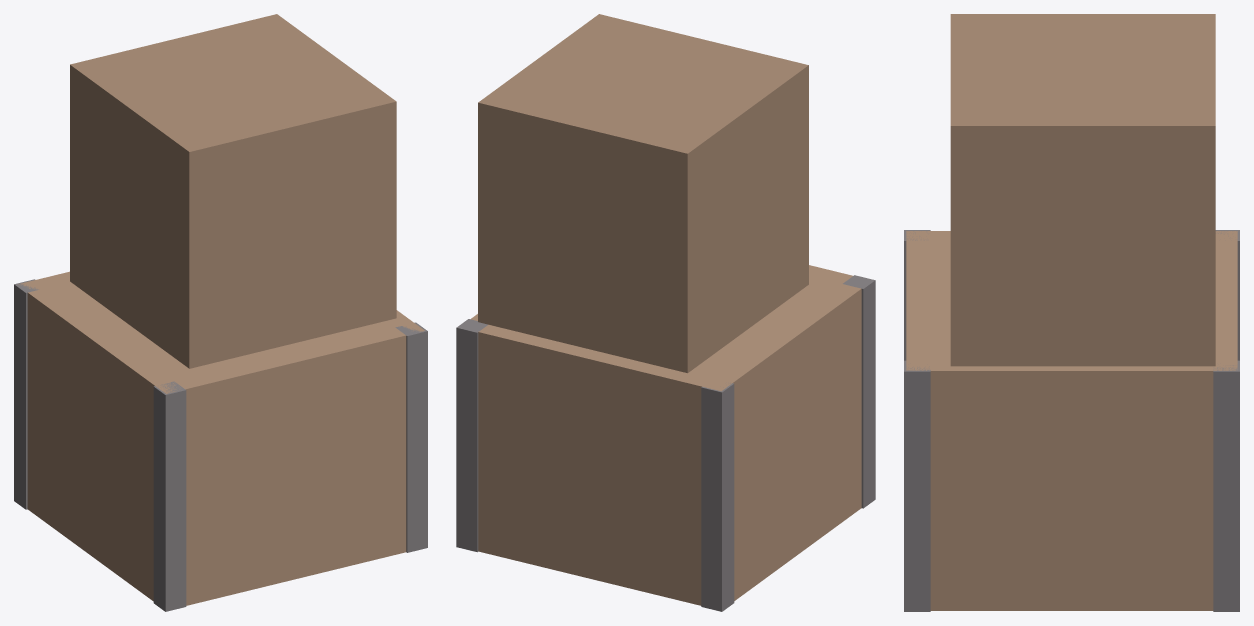
File: crates_breakable.glb
3 views of the same model, side by side, from view 1: azimuth 30°, elevation 25°; view 2: azimuth 150°, elevation 25°; view 3: azimuth 270°, elevation 25° (orthographic). The views are drawn at different scales.
Parts seen in each view (by area): view 1: crates_breakable_1, crates_breakable_0, crates_breakable_3, crates_breakable_5, crates_breakable_2; view 2: crates_breakable_1, crates_breakable_0, crates_breakable_2, crates_breakable_4, crates_breakable_3; view 3: crates_breakable_1, crates_breakable_0, crates_breakable_4, crates_breakable_5.
Boxes of the visible parts, box(x1,y1,x2,y2) form: crates_breakable_1: box(70, 14, 396, 368); crates_breakable_0: box(18, 271, 424, 605); crates_breakable_3: box(153, 381, 186, 611); crates_breakable_5: box(395, 322, 427, 552); crates_breakable_2: box(14, 279, 38, 509); crates_breakable_1: box(478, 14, 808, 373); crates_breakable_0: box(470, 265, 861, 605); crates_breakable_2: box(701, 383, 734, 611); crates_breakable_4: box(456, 319, 487, 552); crates_breakable_3: box(843, 275, 875, 508); crates_breakable_1: box(950, 14, 1215, 366); crates_breakable_0: box(906, 231, 1237, 610); crates_breakable_4: box(1213, 360, 1239, 611); crates_breakable_5: box(904, 360, 930, 611).
Size of the model in its own units: 1.52 by 2.4 by 1.52.
